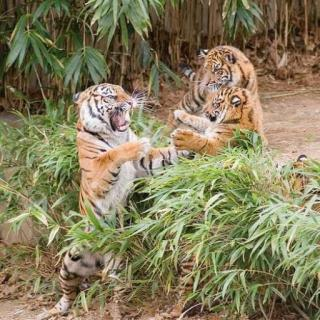Tiger: (40, 80, 176, 320), (172, 84, 268, 159), (183, 42, 263, 90)
